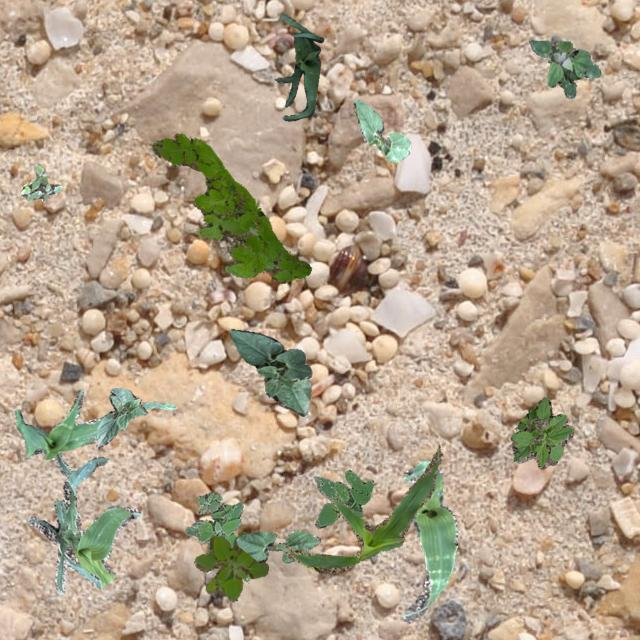crop: (276, 444, 442, 572), (26, 456, 140, 594), (13, 388, 175, 476), (400, 458, 458, 622), (228, 328, 310, 416), (274, 12, 322, 120), (352, 100, 410, 162), (95, 387, 146, 448), (233, 528, 320, 562)
weed: (152, 132, 310, 282), (183, 490, 250, 580), (192, 530, 268, 600), (510, 396, 572, 468), (528, 38, 600, 96), (314, 470, 372, 528), (18, 162, 61, 200)
